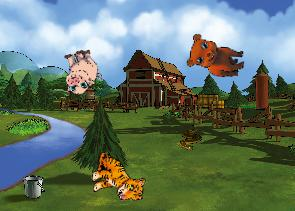bear: (186, 33, 246, 77)
pig: (56, 46, 104, 96)
tiger: (88, 151, 148, 203)
